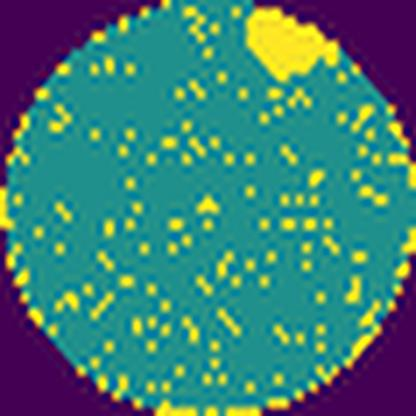Edge-Loc: (244, 6, 343, 84)
